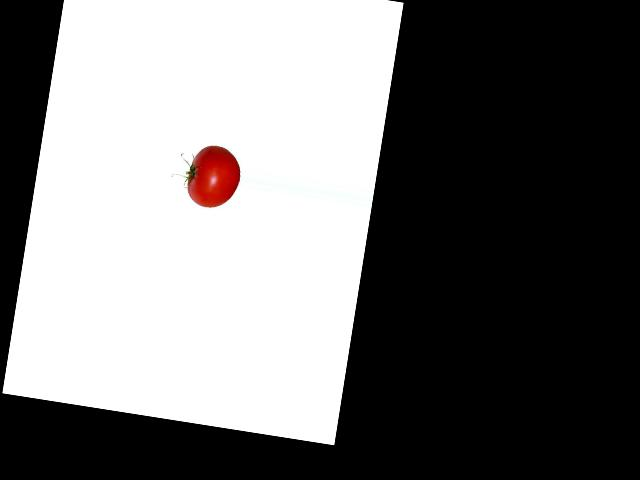tomato: (184, 143, 244, 211)
